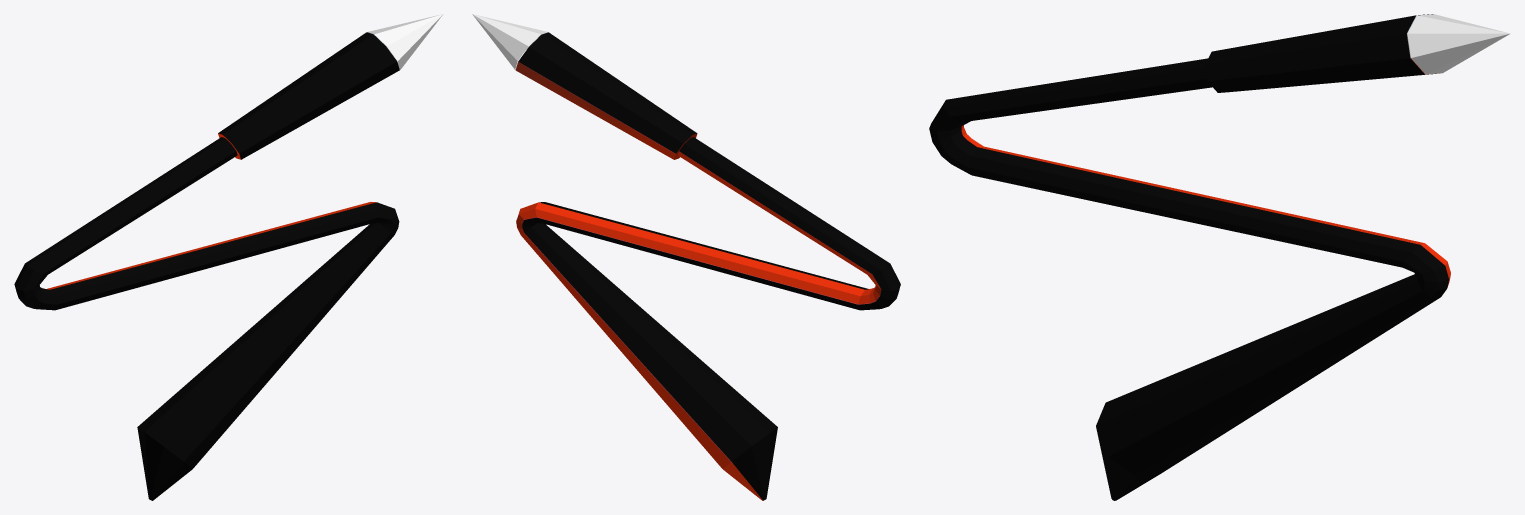
The model's file is BalasRapidas.fbx.
3 views of the same model, side by side, from view 1: azimuth 30°, elevation 25°; view 2: azimuth 150°, elevation 25°; view 3: azimuth 330°, elevation 25° (orthographic). The views are drawn at different scales.
Visible parts, largest first — view 1: bala rapidoa; view 2: bala rapidoa; view 3: bala rapidoa.
Boxes of the visible parts, x1,y1,x2,y2 form: bala rapidoa: [14, 14, 443, 500]; bala rapidoa: [472, 14, 900, 500]; bala rapidoa: [929, 14, 1510, 500].
Size of the model in its own units: 97.82 by 90.84 by 14.79.
